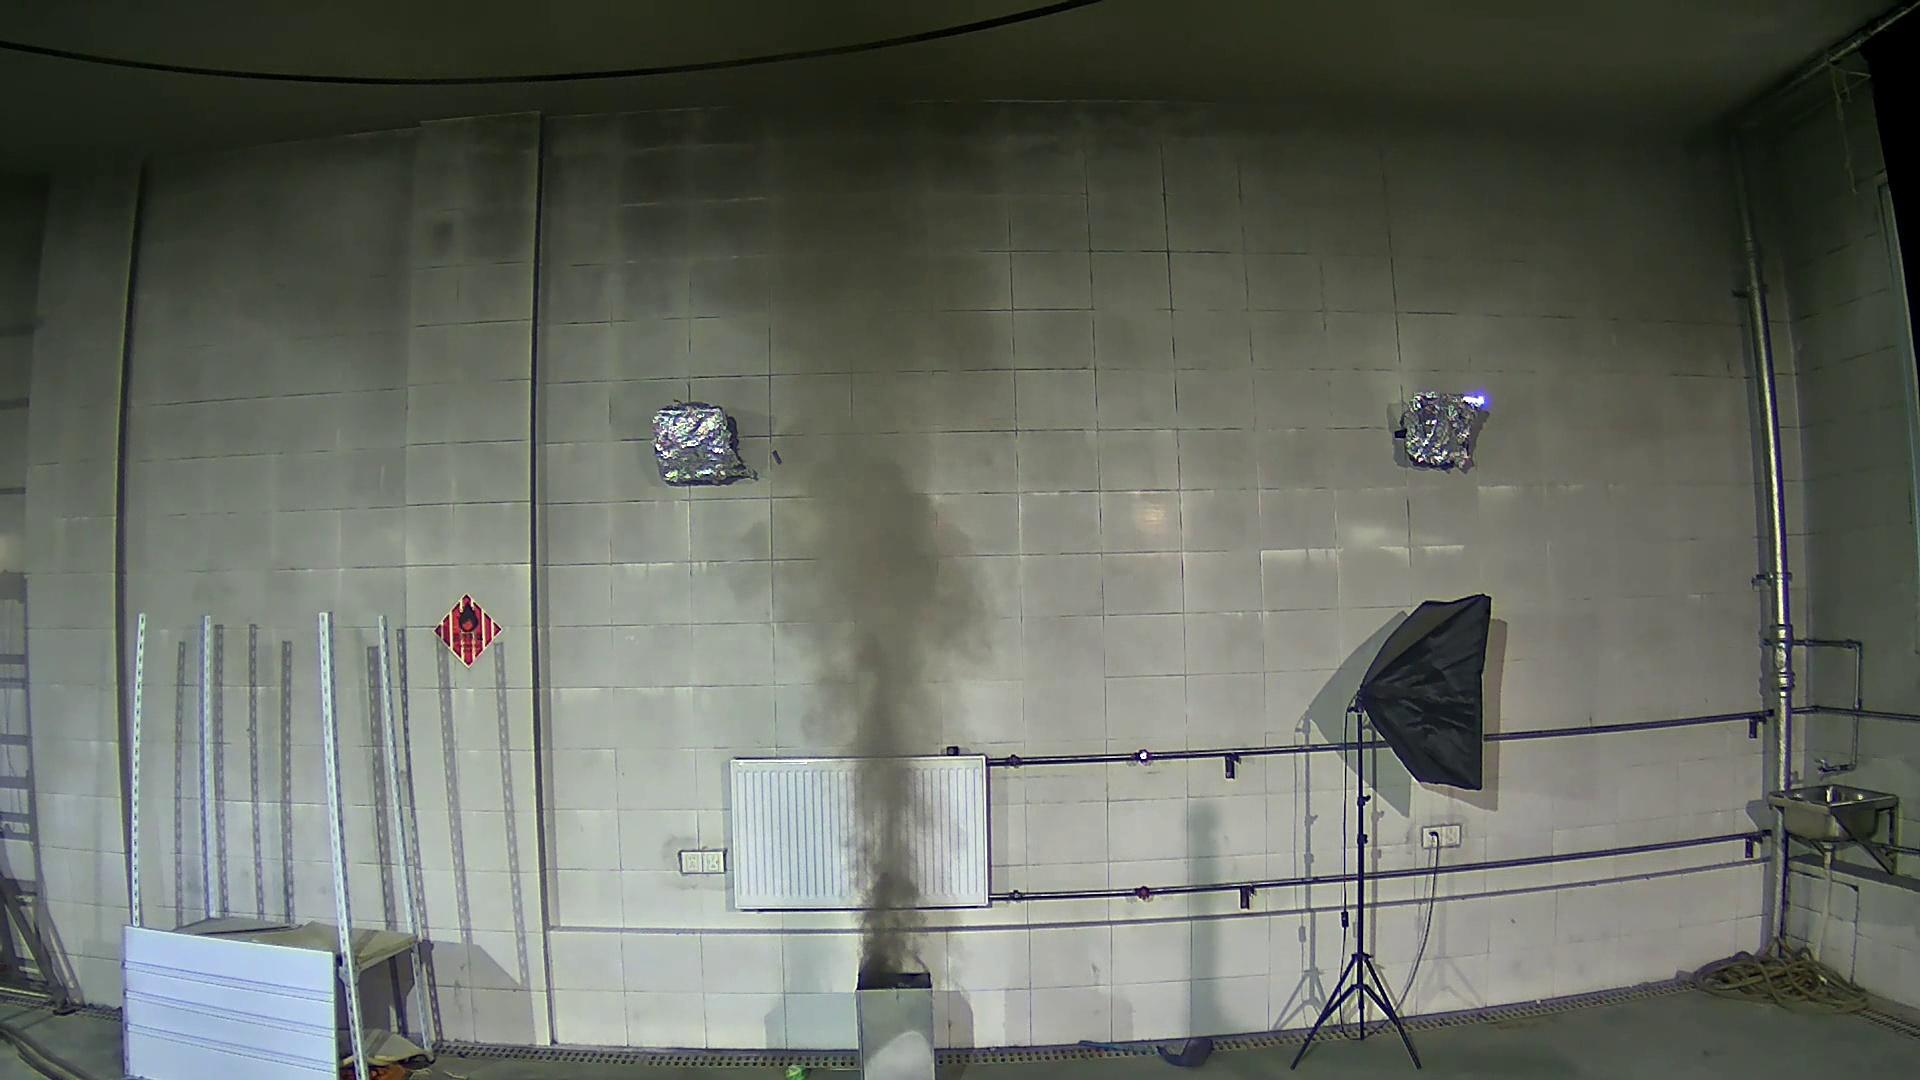smoke: (740, 438, 1013, 978)
